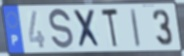3: (152, 8, 175, 47)
4: (27, 10, 47, 51)
I: (129, 7, 142, 49)
S: (48, 7, 75, 52)
T: (100, 7, 120, 50)
X: (71, 9, 103, 50)
